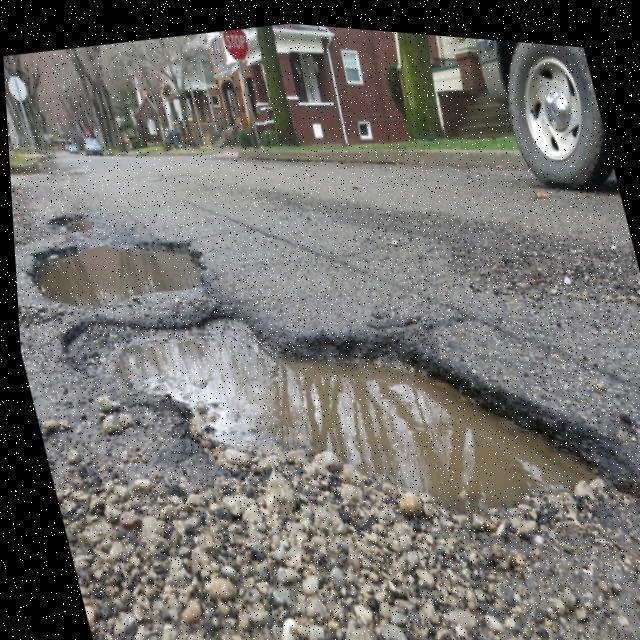Pothole: (59, 305, 634, 519), (38, 246, 200, 305), (49, 214, 94, 232)
